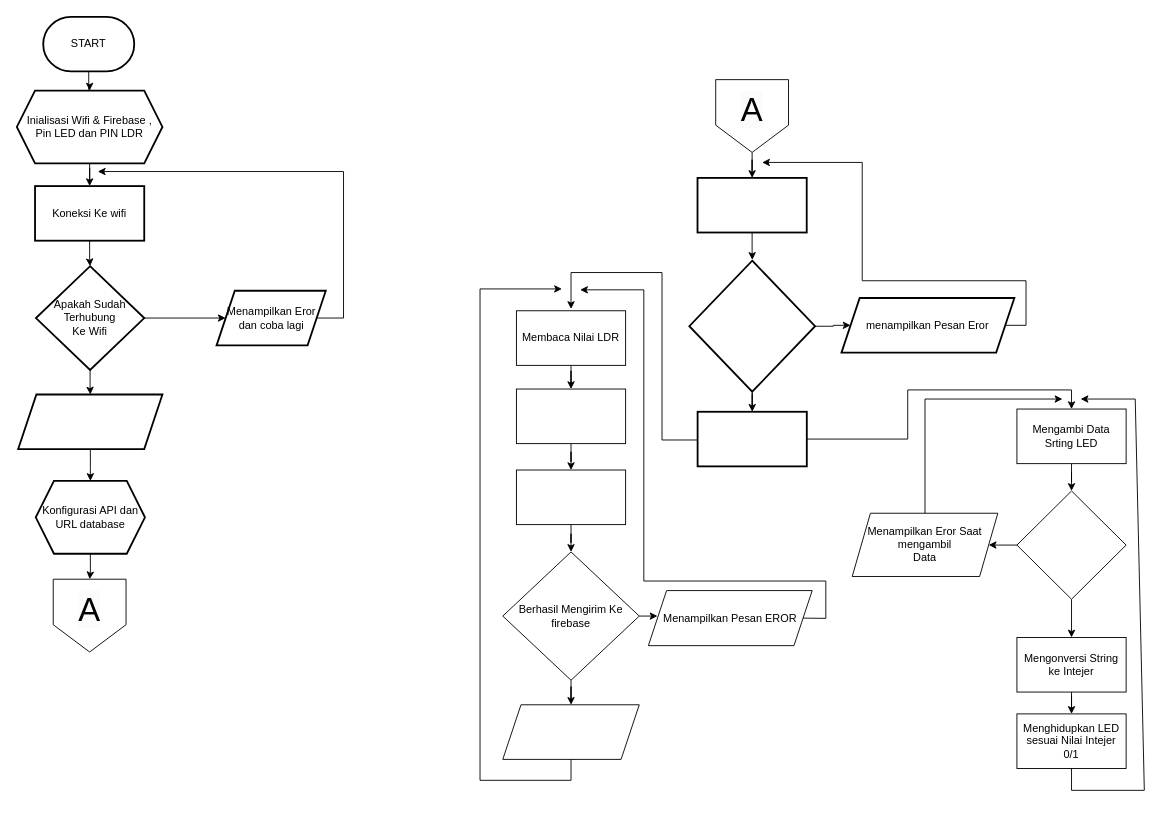
Some shapes in this 1168 by 814 pixel diagram are drawn without their labels. The centre of each missing label's shape, as x and y in pixels:
"Apakah Berhasil Masuk Ke Data Base" belongs at (x=752, y=325).
"apkah berhasil mengambil data" belongs at (x=1071, y=544).
"Masuk Ke Database" belongs at (x=751, y=205).
"Menampilkan nilai LDR terkirim Ke Firebase" belongs at (x=570, y=731).
"Menampilkan Terhubung Dengan Wifi" belongs at (x=90, y=421).
"Mengirim Nilai String Ke Fire Base" belongs at (x=571, y=497).
"Mengonversi NIlai LDR dari Intejer Ke String" belongs at (x=571, y=416).
"Terhubung Ke Firebase" belongs at (x=751, y=438).
